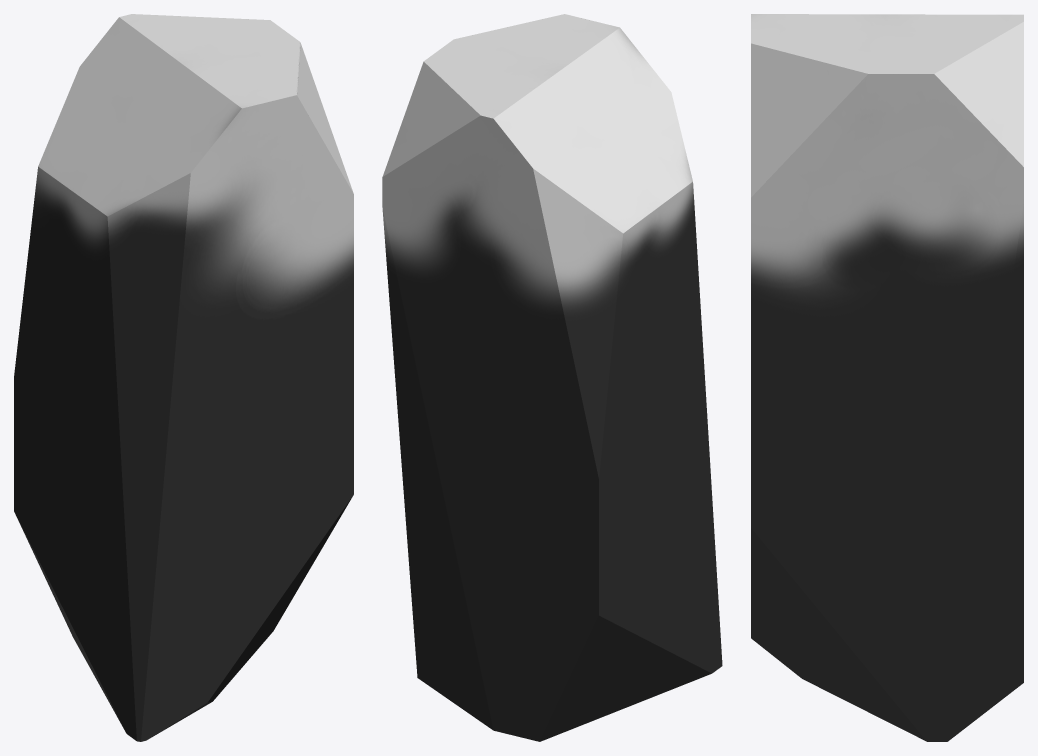
File: TallRock4.fbx
3 renders of one model, left to right at view 1: azimuth 30°, elevation 25°; view 2: azimuth 150°, elevation 25°; view 3: azimuth 270°, elevation 25°, orthographic. The views are drawn at different scales.
Parts seen in each view (by area): view 1: TallRock4; view 2: TallRock4; view 3: TallRock4.
Boxes of the visible parts, <box> form: TallRock4: <box>14,14,353,741</box>; TallRock4: <box>382,14,722,741</box>; TallRock4: <box>751,14,1023,741</box>.
Bounding box in the file's own units: 342 × 924 × 342.
Materials: 1 (1 with a texture image).
